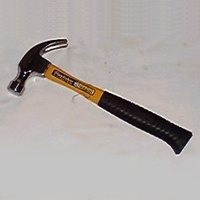hammer: (7, 38, 195, 156)
